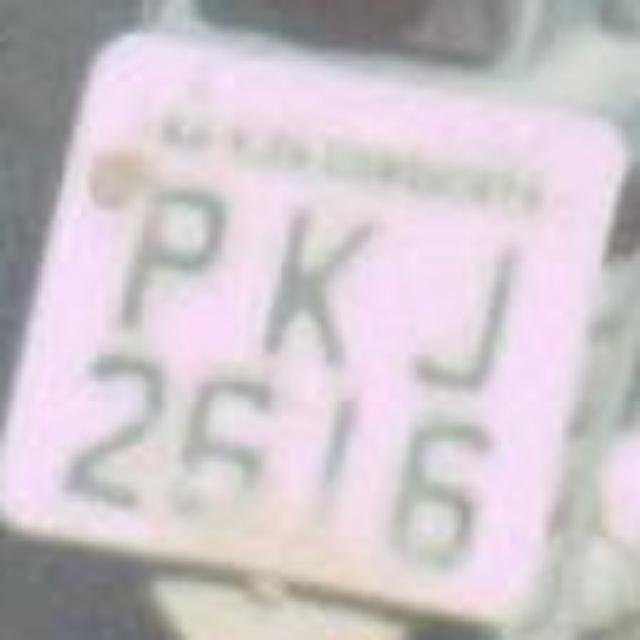1: (271, 372, 384, 552)
2: (40, 336, 192, 524)
6: (369, 388, 516, 600), (152, 344, 296, 544)
J: (392, 225, 528, 400)
K: (240, 184, 380, 376)
P: (108, 164, 232, 356)
